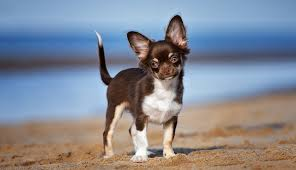Chihuahua: (68, 11, 206, 164)
